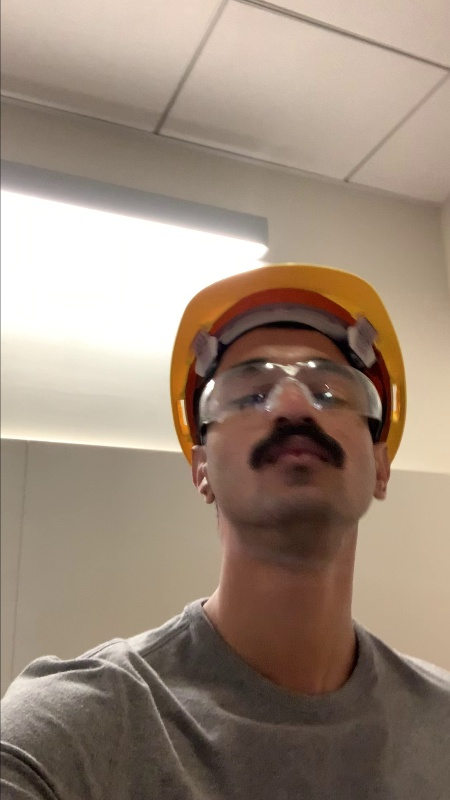glasses: (200, 362, 376, 416)
helmet: (184, 261, 376, 316)
